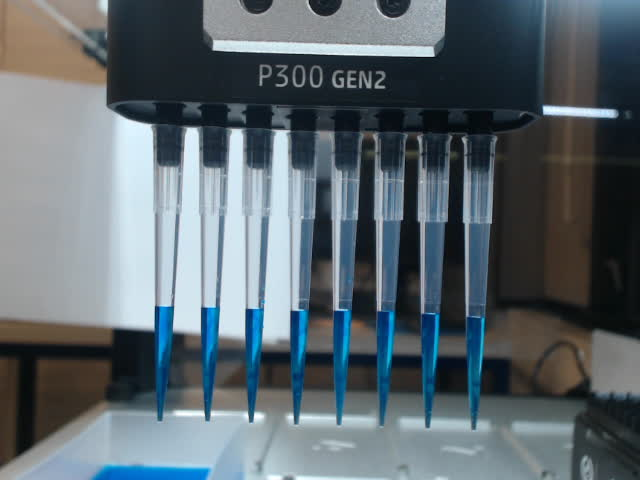Liquid: (418, 307, 447, 435), (151, 301, 180, 426), (462, 309, 490, 436), (198, 301, 226, 426), (374, 306, 400, 431), (243, 303, 268, 428), (288, 304, 313, 427), (330, 304, 353, 430)
Tip: (370, 130, 412, 432), (459, 133, 500, 435), (283, 128, 324, 429), (148, 120, 188, 426), (194, 123, 234, 425), (415, 132, 455, 433), (327, 128, 366, 428), (239, 128, 278, 428)
